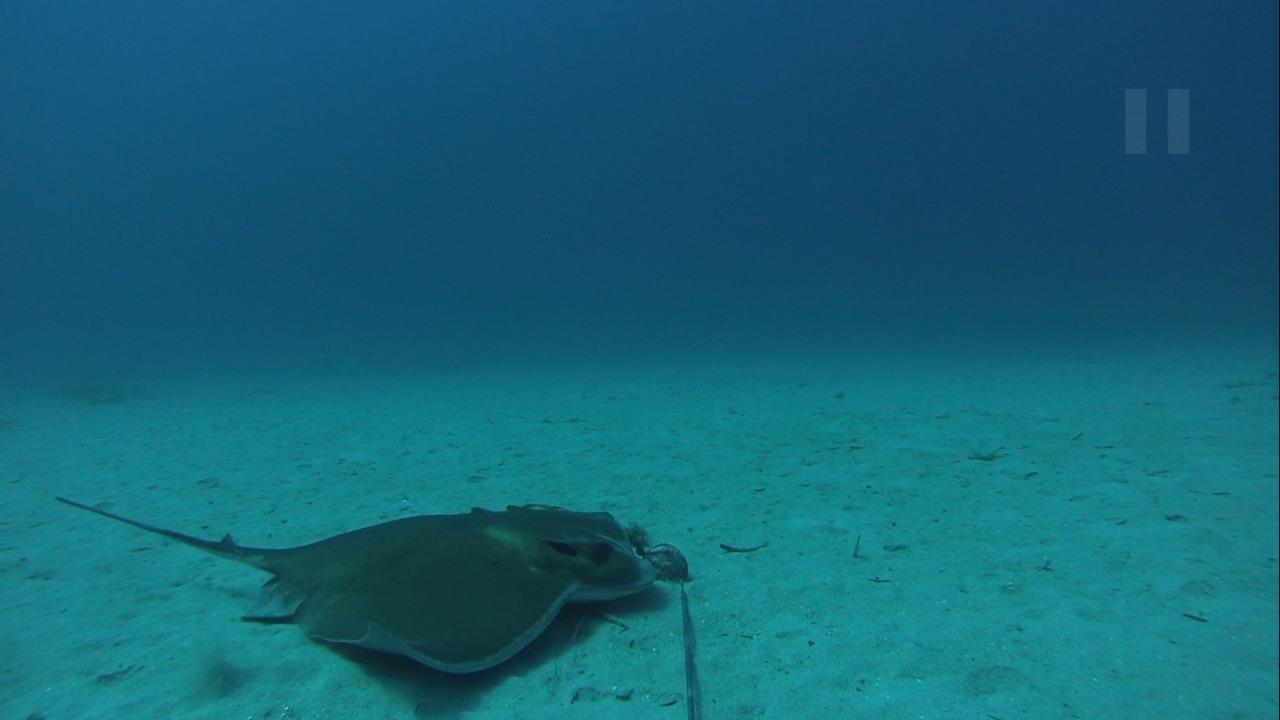myliobatis: (42, 482, 660, 684)
